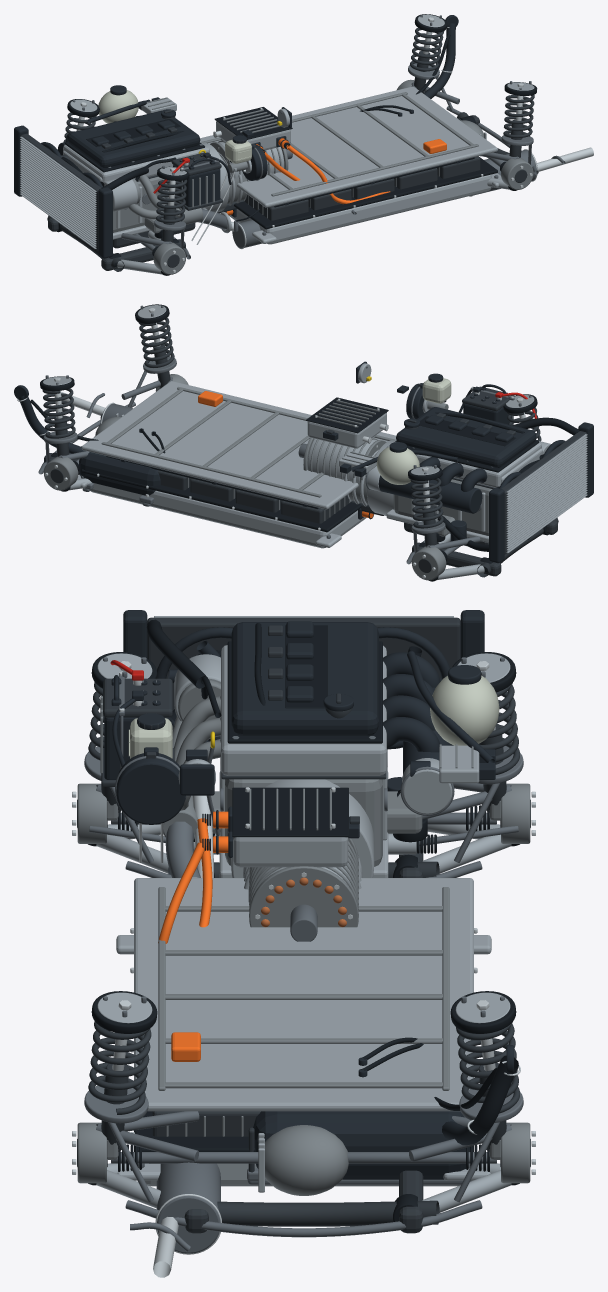
File: mechanical-supplement.glb
3 views of the same model, one above another, from view 1: azimuth 30°, elevation 25°; view 2: azimuth 150°, elevation 25°; view 3: azimuth 270°, elevation 25° (orthographic). The views are drawn at different scales.
Parts seen in each view (by area): view 1: batteryHV__batteryCover__mechanical_aluminum, cooling__radiator__mechanical_aluminum, batteryHV__tractionBattery__mechanical_aluminum, engine__engineExample__mechanical_plastic, engine__engineExample__mechanical_aluminum, batteryHV__tractionBattery__mechanical_darksteel, chassis__frontSuspension__mechanical_darksteel, batteryHV__tractionBattery__mechanical_rubber, chassis__rearSuspension__mechanical_darksteel, batteryHV__batteryCover__mechanical_cast, engine__engineExample__mechanical_cast, cooling__radiator__mechanical_plastic (+28 smaller); view 2: batteryHV__batteryCover__mechanical_aluminum, engine__engineExample__mechanical_plastic, cooling__radiator__mechanical_aluminum, batteryHV__tractionBattery__mechanical_aluminum, engine__engineExample__mechanical_aluminum, chassis__frontSuspension__mechanical_darksteel, chassis__rearSuspension__mechanical_darksteel, tank__fuelTank__mechanical_plastic, batteryHV__batteryCover__mechanical_cast, batteryHV__tractionBattery__mechanical_darksteel, batteryHV__tractionBattery__mechanical_rubber, cooling__radiator__mechanical_plastic (+26 smaller); view 3: batteryHV__batteryCover__mechanical_aluminum, engine__engineExample__mechanical_plastic, chassis__rearSuspension__mechanical_darksteel, engine__engineExample__mechanical_aluminum, chassis__rearSuspension__mechanical_steel, batteryHV__batteryCover__mechanical_cast, tank__fuelTank__mechanical_plastic, chassis__rearSuspension__mechanical_cast, engine__engineExample__mechanical_cast, motorElectric__tractionMotor__mechanical_cast, motorElectric__inverter__mechanical_rubber, engine__engineExample__mechanical_rubber (+32 smaller).
Boxes of the visible parts, x1,y1,x2,y2 form: batteryHV__batteryCover__mechanical_aluminum: [200, 86, 497, 207]; cooling__radiator__mechanical_aluminum: [20, 136, 96, 248]; batteryHV__tractionBattery__mechanical_aluminum: [229, 173, 501, 244]; engine__engineExample__mechanical_plastic: [57, 109, 200, 167]; engine__engineExample__mechanical_aluminum: [63, 142, 249, 239]; batteryHV__tractionBattery__mechanical_darksteel: [244, 156, 480, 220]; chassis__frontSuspension__mechanical_darksteel: [47, 112, 187, 271]; batteryHV__tractionBattery__mechanical_rubber: [226, 156, 497, 229]; chassis__rearSuspension__mechanical_darksteel: [410, 28, 534, 182]; batteryHV__batteryCover__mechanical_cast: [201, 92, 478, 196]; engine__engineExample__mechanical_cast: [113, 157, 246, 233]; cooling__radiator__mechanical_plastic: [14, 125, 112, 258]; batteryHV__batteryCover__mechanical_aluminum: [81, 381, 396, 509]; engine__engineExample__mechanical_plastic: [378, 407, 536, 541]; cooling__radiator__mechanical_aluminum: [506, 434, 587, 553]; batteryHV__tractionBattery__mechanical_aluminum: [77, 474, 366, 548]; engine__engineExample__mechanical_aluminum: [344, 440, 550, 542]; chassis__frontSuspension__mechanical_darksteel: [410, 407, 558, 577]; chassis__rearSuspension__mechanical_darksteel: [42, 317, 174, 483]; tank__fuelTank__mechanical_plastic: [14, 385, 160, 495]; batteryHV__batteryCover__mechanical_cast: [101, 387, 395, 497]; batteryHV__tractionBattery__mechanical_darksteel: [157, 470, 349, 523]; batteryHV__tractionBattery__mechanical_rubber: [81, 456, 373, 532]; cooling__radiator__mechanical_plastic: [489, 422, 593, 563]; batteryHV__batteryCover__mechanical_aluminum: [134, 878, 473, 1111]; engine__engineExample__mechanical_plastic: [231, 621, 451, 791]; chassis__rearSuspension__mechanical_darksteel: [77, 1021, 530, 1233]; engine__engineExample__mechanical_aluminum: [174, 645, 452, 889]; chassis__rearSuspension__mechanical_steel: [84, 996, 523, 1237]; batteryHV__batteryCover__mechanical_cast: [158, 887, 449, 1090]; tank__fuelTank__mechanical_plastic: [253, 1045, 518, 1179]; chassis__rearSuspension__mechanical_cast: [77, 1122, 530, 1195]; engine__engineExample__mechanical_cast: [163, 680, 422, 902]; motorElectric__tractionMotor__mechanical_cast: [249, 838, 358, 927]; motorElectric__inverter__mechanical_rubber: [202, 787, 348, 850]; engine__engineExample__mechanical_rubber: [193, 623, 427, 842].
Size of the model in its own units: 4.31 by 1.06 by 1.73.
